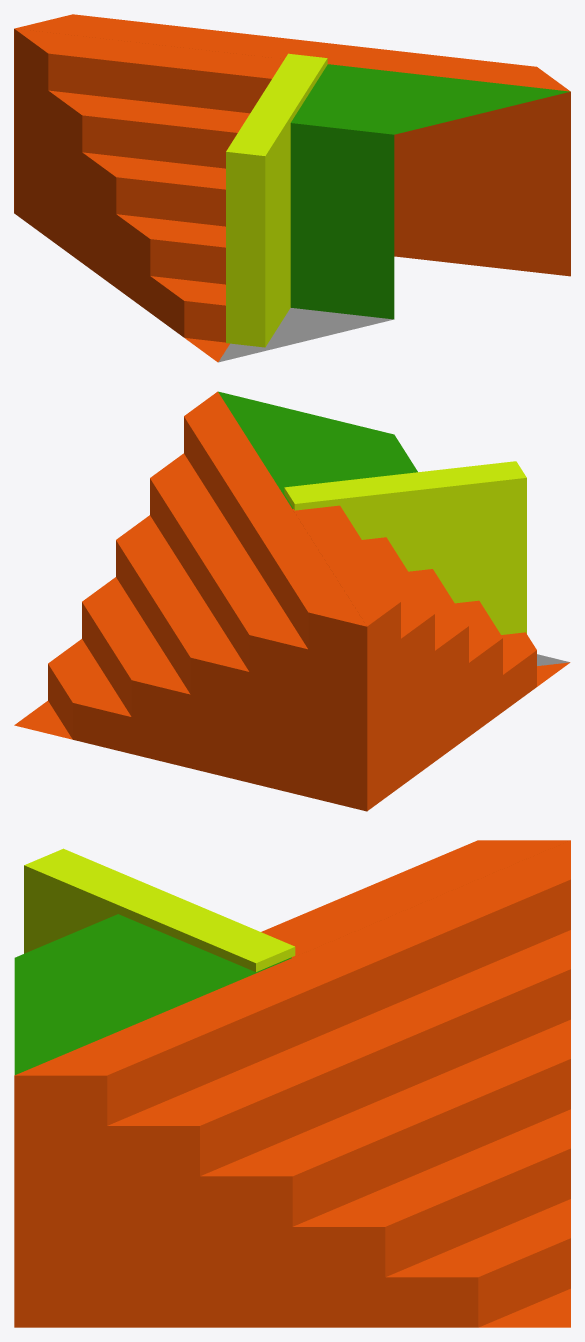
3 views of the same model, one above another, from view 1: azimuth 30°, elevation 25°; view 2: azimuth 150°, elevation 25°; view 3: azimuth 270°, elevation 25° (orthographic). The views are drawn at different scales.
Visible parts, largest first — view 1: T_a_d_0; view 2: T_a_d_0; view 3: T_a_d_0.
Part boxes in pixels (x1,y1,x2,y2): T_a_d_0: (14, 14, 570, 362); T_a_d_0: (14, 391, 570, 811); T_a_d_0: (14, 840, 570, 1327).
Bounding box in the file's own units: 99.81 × 51.68 × 99.86.
